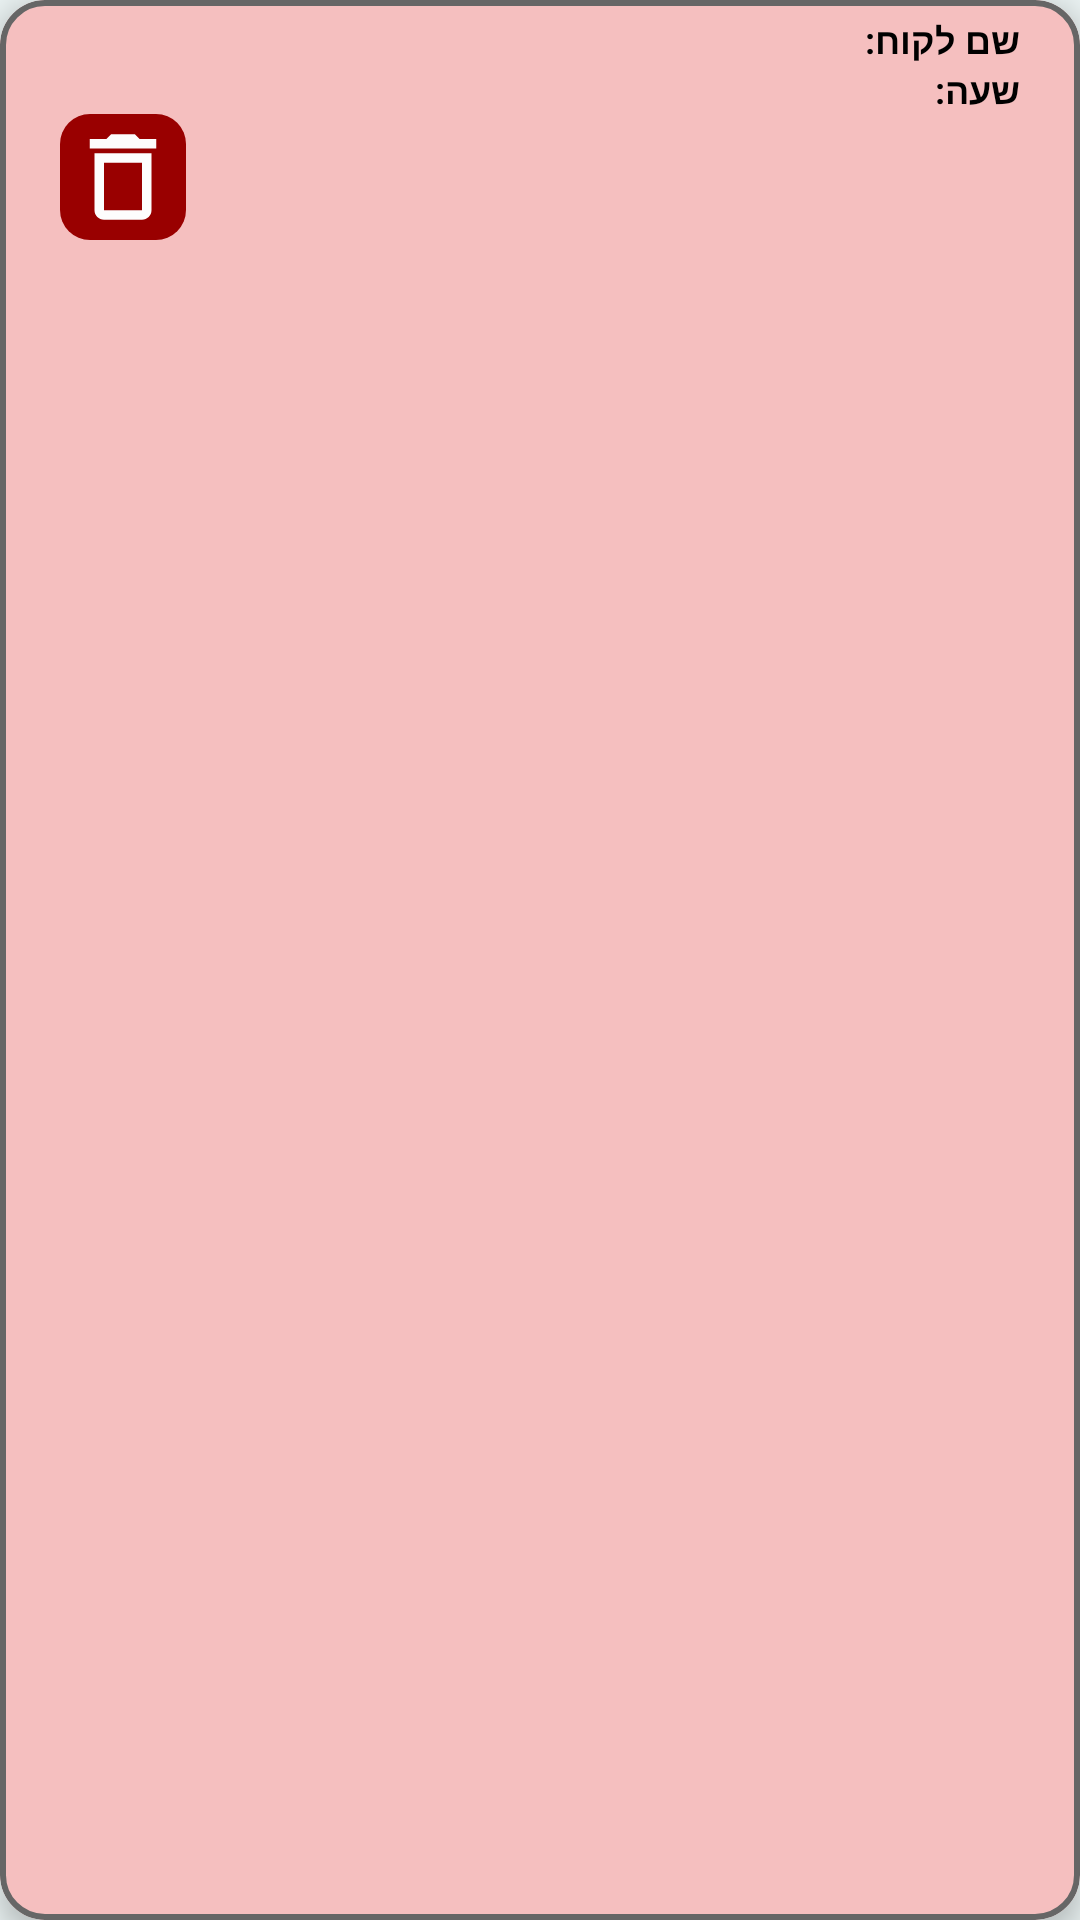

Icon click points for this 1080*1920 phone screenshot, format (x,y):
delete: (123,177)
